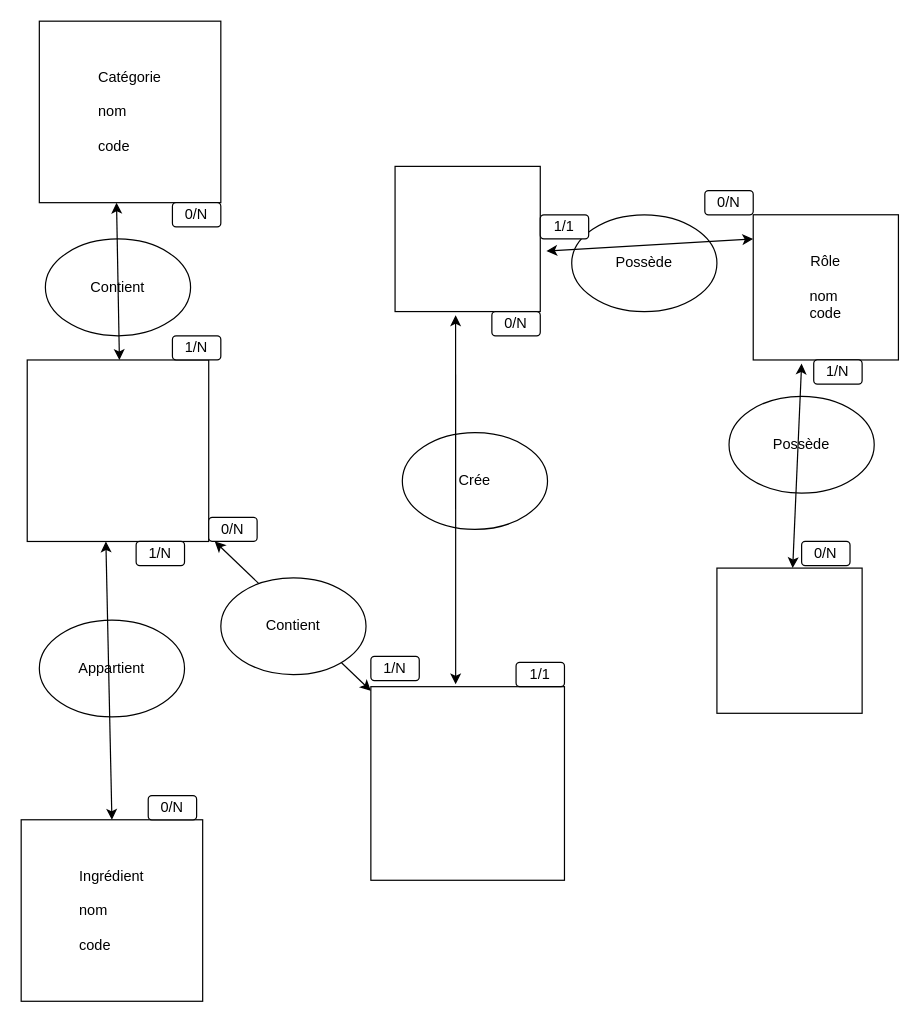
Some shapes in this 920 by 1022 pixel diagram are drawn without their labels. Each missing label, with the centre of its shape:
"Commande date code heure statut user_id" belongs at pixel 467 782.
"droits nom code" belongs at pixel 789 640.
"Produit nom prix quantity code" belongs at pixel 117 450.
"Profil email mdp profil_id" belongs at pixel 467 238.
